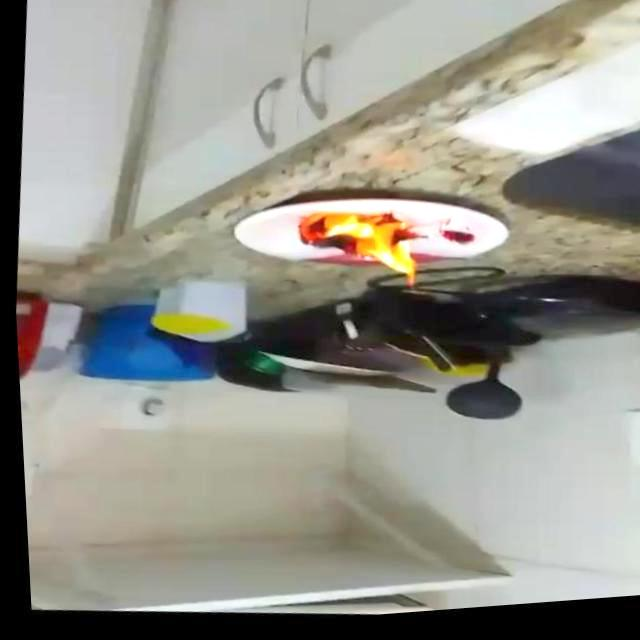fire: (286, 202, 424, 302)
